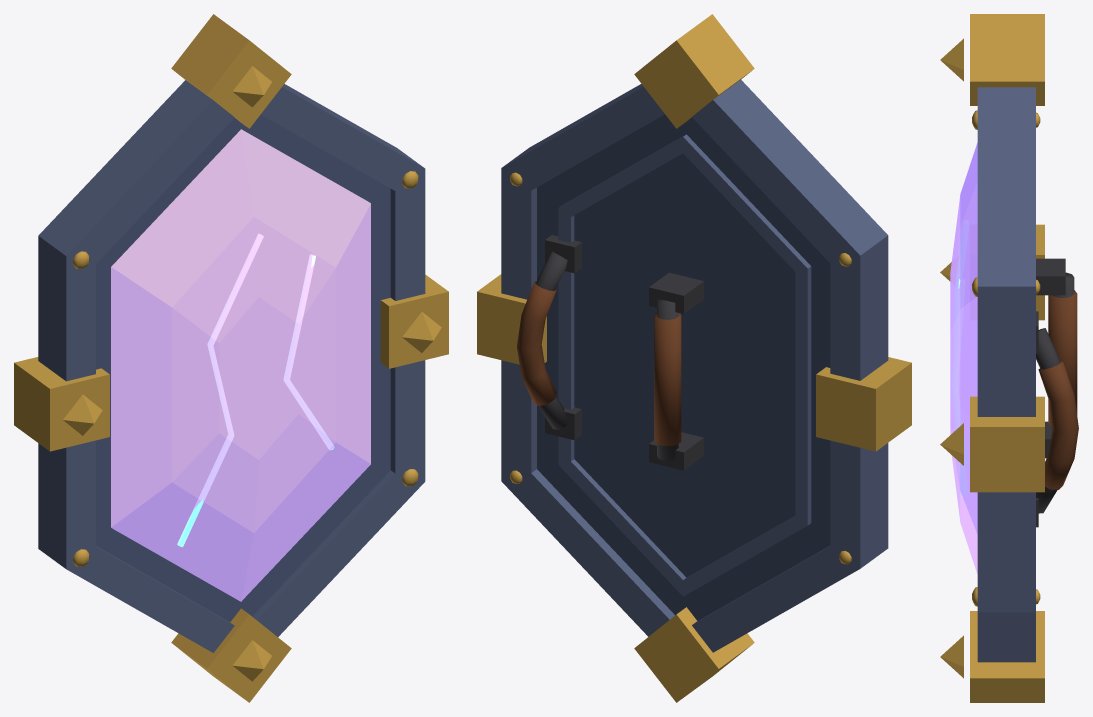
File: prismwatch_shield.glb
3 renders of one model, left to right at view 1: azimuth 30°, elevation 25°; view 2: azimuth 150°, elevation 25°; view 3: azimuth 270°, elevation 25°, orthographic. The views are drawn at different scales.
Visible parts, largest first — view 1: PrismwatchShield; view 2: PrismwatchShield; view 3: PrismwatchShield.
Boxes of the visible parts, <box> form: PrismwatchShield: <box>14,14,448,702</box>; PrismwatchShield: <box>477,14,911,702</box>; PrismwatchShield: <box>940,14,1078,702</box>.
Size of the model in its own units: 0.776 by 1.23 by 0.225.
